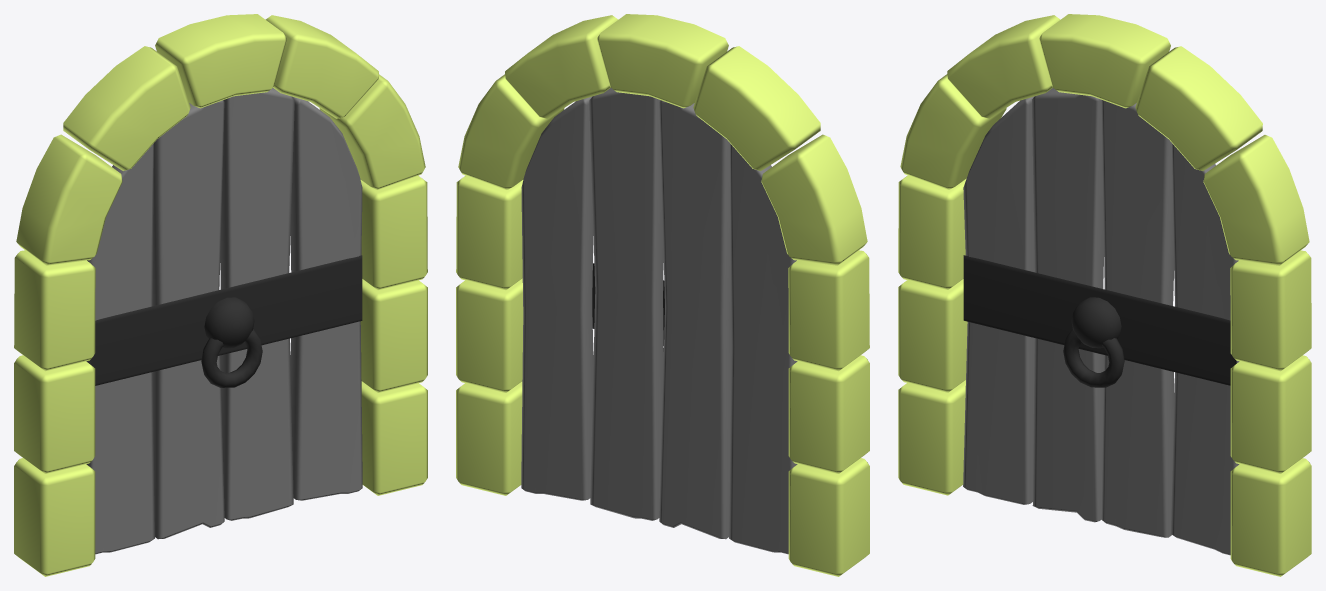
The model's file is SM_Fundation_Door.fbx.
3 renders of one model, left to right at view 1: azimuth 30°, elevation 25°; view 2: azimuth 150°, elevation 25°; view 3: azimuth 330°, elevation 25°, orthographic.
Visible parts, largest first — view 1: plank, Stones, handle; view 2: plank, Stones; view 3: plank, Stones, handle.
Part boxes in pixels (x1=…): plank: x1=86, y1=88, x2=362, y2=554; Stones: x1=14, y1=14, x2=427, y2=576; handle: x1=89, y1=255, x2=362, y2=387; plank: x1=521, y1=88, x2=797, y2=554; Stones: x1=456, y1=14, x2=869, y2=576; plank: x1=963, y1=88, x2=1239, y2=555; Stones: x1=898, y1=14, x2=1311, y2=576; handle: x1=963, y1=255, x2=1236, y2=387.
Bounding box in the file's own units: 70 × 84.91 × 10.74.
